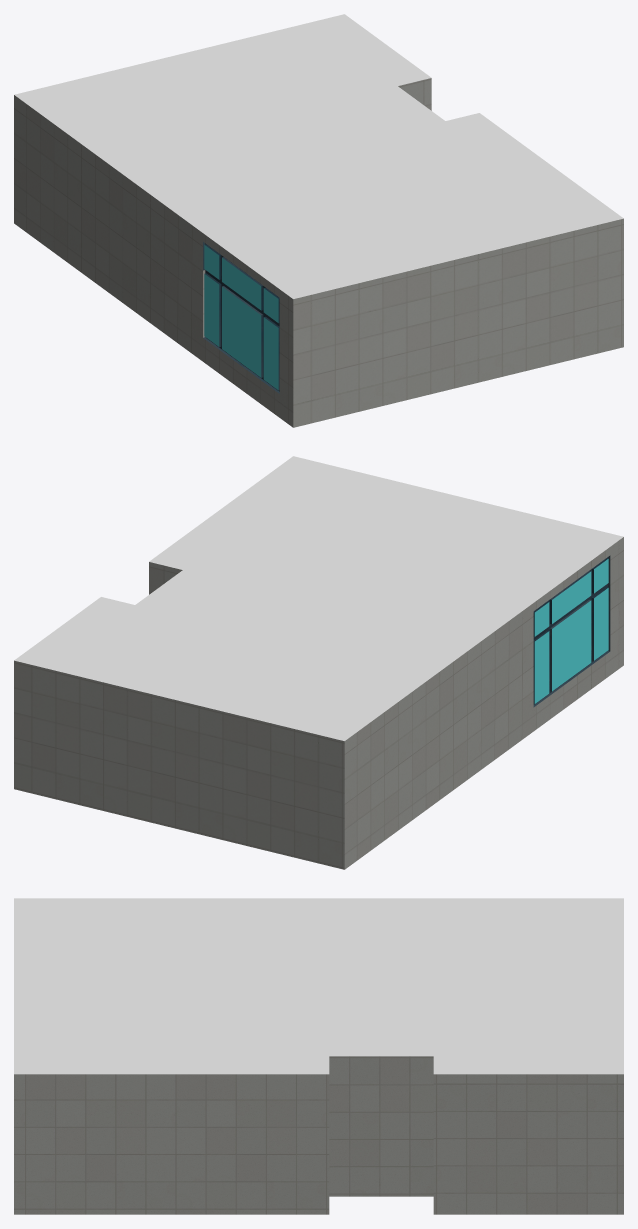
File: Labo_para_mapear (1).fbx
3 renders of one model, top to bottom at view 1: azimuth 30°, elevation 25°; view 2: azimuth 150°, elevation 25°; view 3: azimuth 270°, elevation 25°, orthographic. The views are drawn at different scales.
Visible parts, largest first — view 1: techo.001, Aula, ventana; view 2: techo.001, Aula, ventana; view 3: techo.001, Aula.
Part boxes in pixels (<box>): techo.001: <box>14,14,623,298</box>; Aula: <box>14,78,623,427</box>; ventana: <box>203,242,279,393</box>; techo.001: <box>14,456,623,740</box>; Aula: <box>14,537,623,869</box>; ventana: <box>533,555,610,707</box>; techo.001: <box>14,898,623,1074</box>; Aula: <box>14,1056,623,1214</box>.
Size of the model in its own units: 1605 by 597 by 2348.
